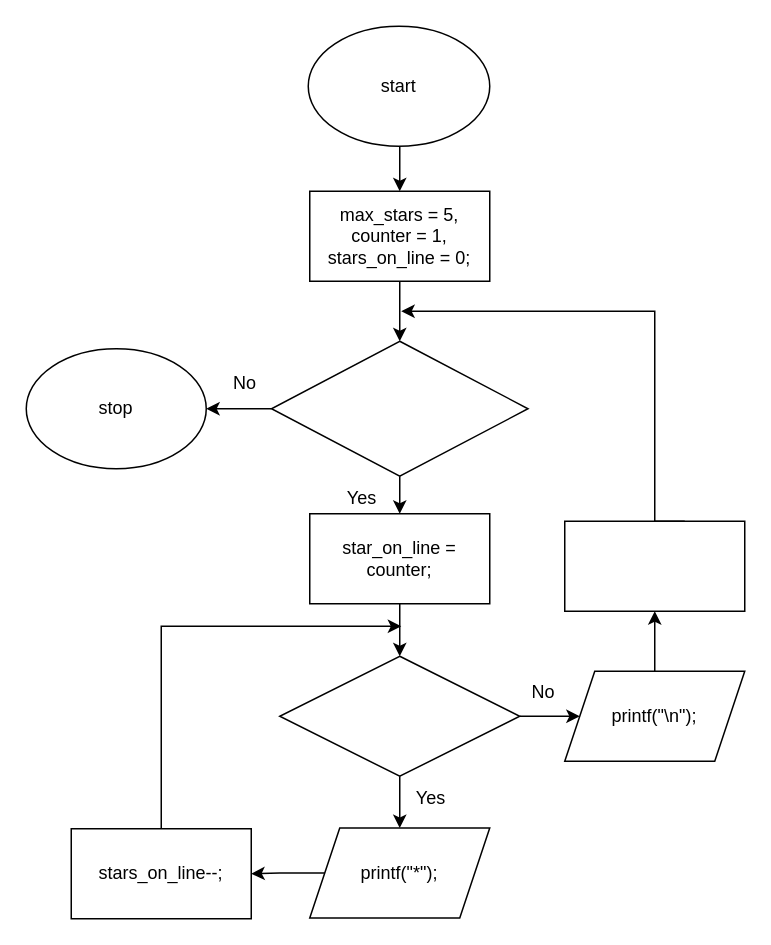
Some shapes in this 771 by 945 pixel diagram are drawn without their labels. Each missing label, with the centre of its shape:
counter <= max_stars: (399,408)
counter++;: (654,565)
stars_on_line > 0: (399,715)
